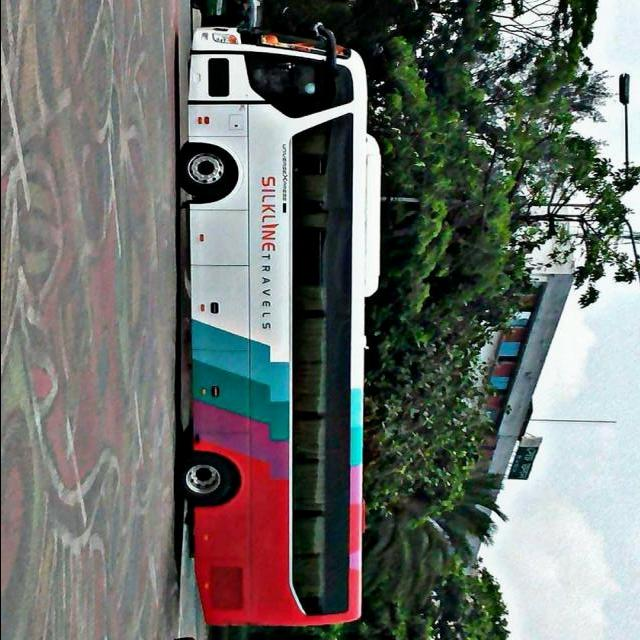bus: (171, 23, 383, 629)
